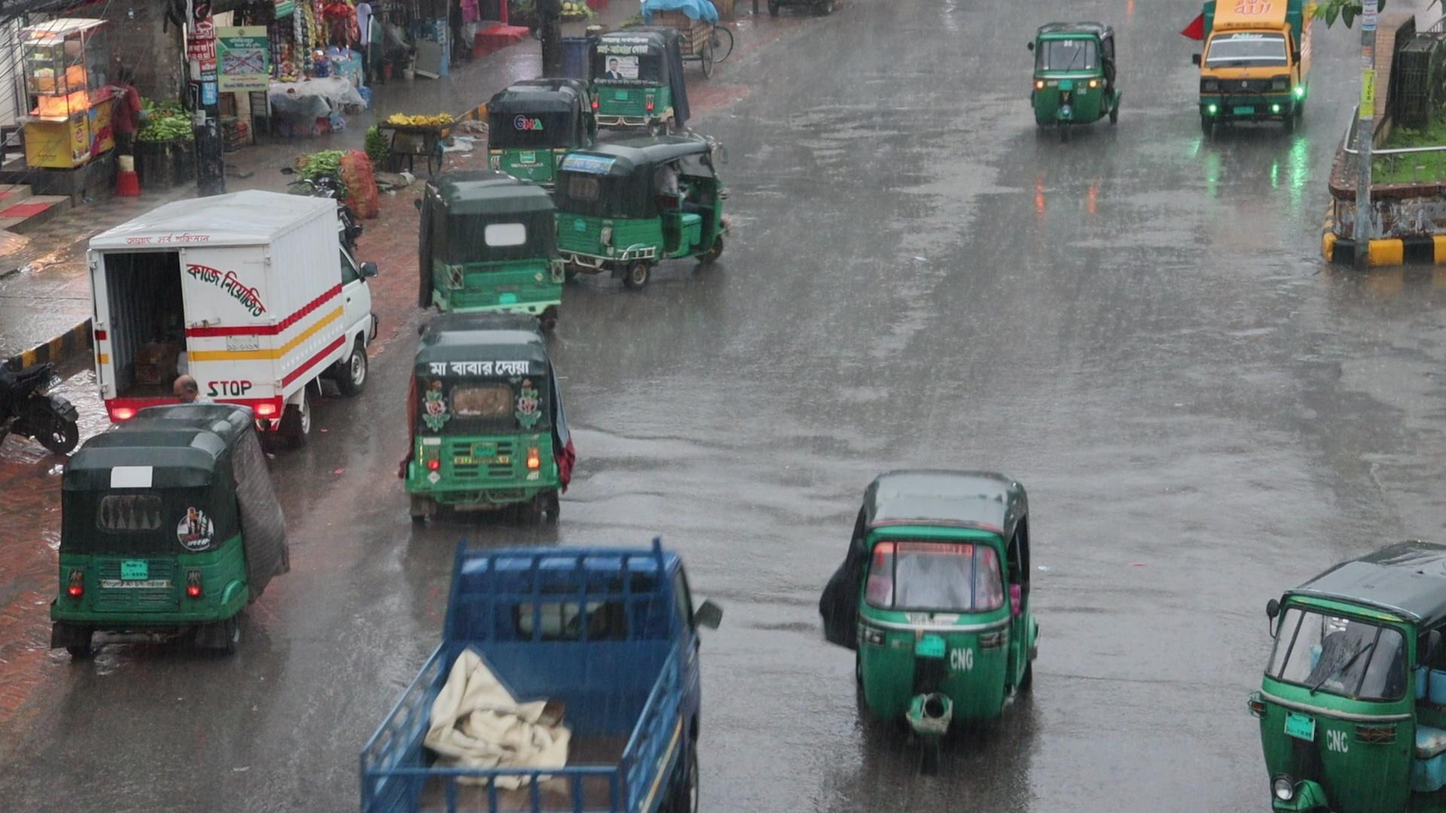Truck: (350, 542, 708, 813), (1196, 3, 1318, 143)
